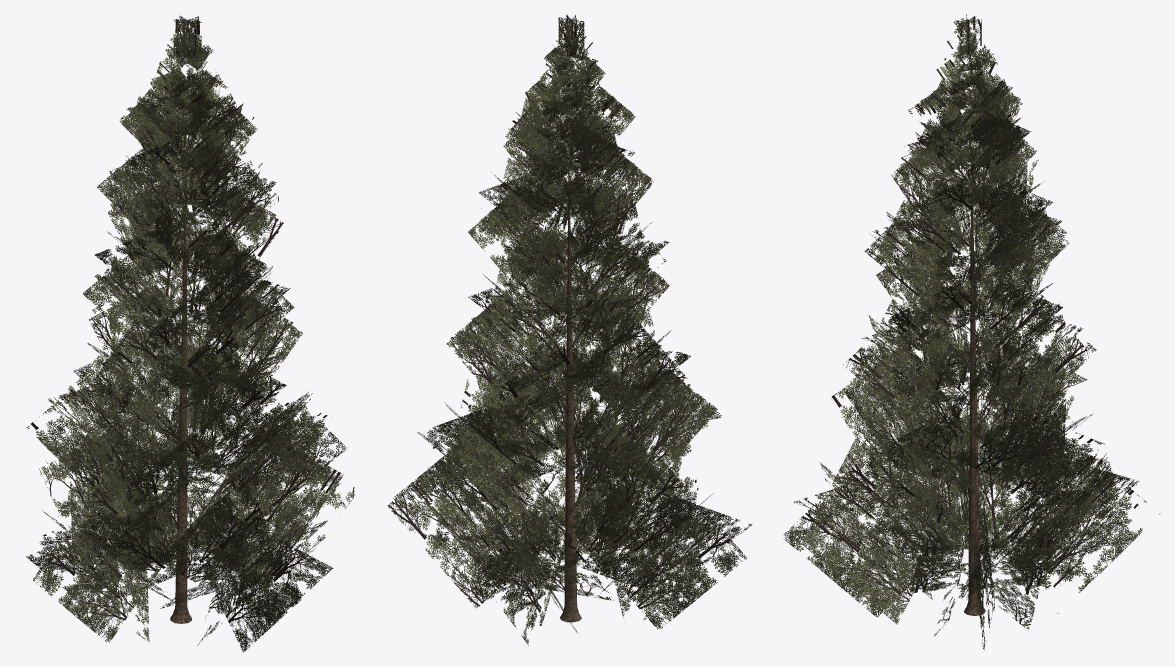
The model's file is SmallTree.fbx.
The picture shows the model from 3 angles, left to right: view 1: azimuth 30°, elevation 25°; view 2: azimuth 150°, elevation 25°; view 3: azimuth 270°, elevation 25°; orthographic projection.
Parts seen in each view (by area): view 1: SmallTree; view 2: SmallTree; view 3: SmallTree.
Boxes of the visible parts, box(x1,y1,x2,y2) form: SmallTree: box(26, 15, 355, 652); SmallTree: box(388, 14, 752, 645); SmallTree: box(783, 14, 1160, 649).
Size of the model in its own units: 1303 by 2249 by 1303.
